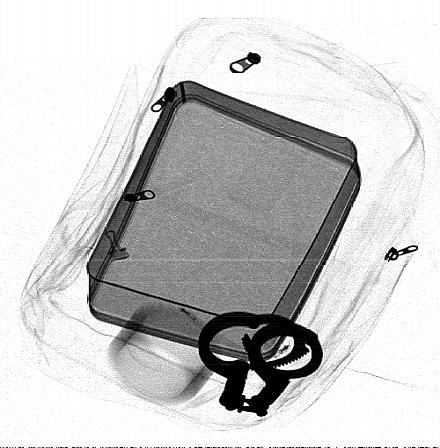HandCuffs: (196, 312, 324, 417)
